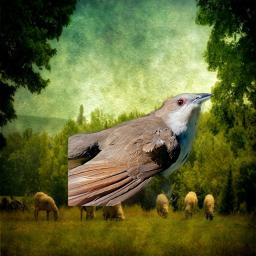Cuckoo: (68, 93, 214, 206)
